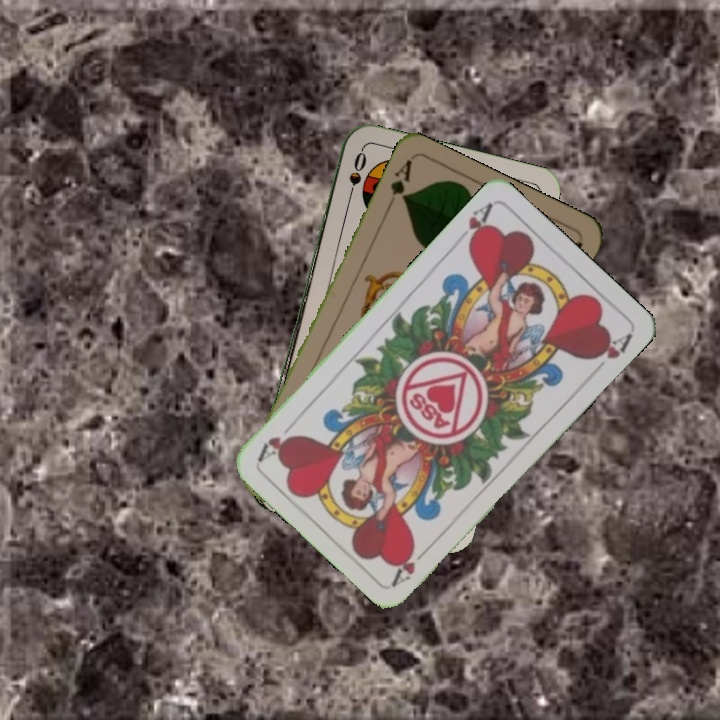GA: (383, 156, 415, 212)
HA: (450, 199, 496, 251), (388, 540, 435, 588)
SO: (343, 147, 369, 205)
